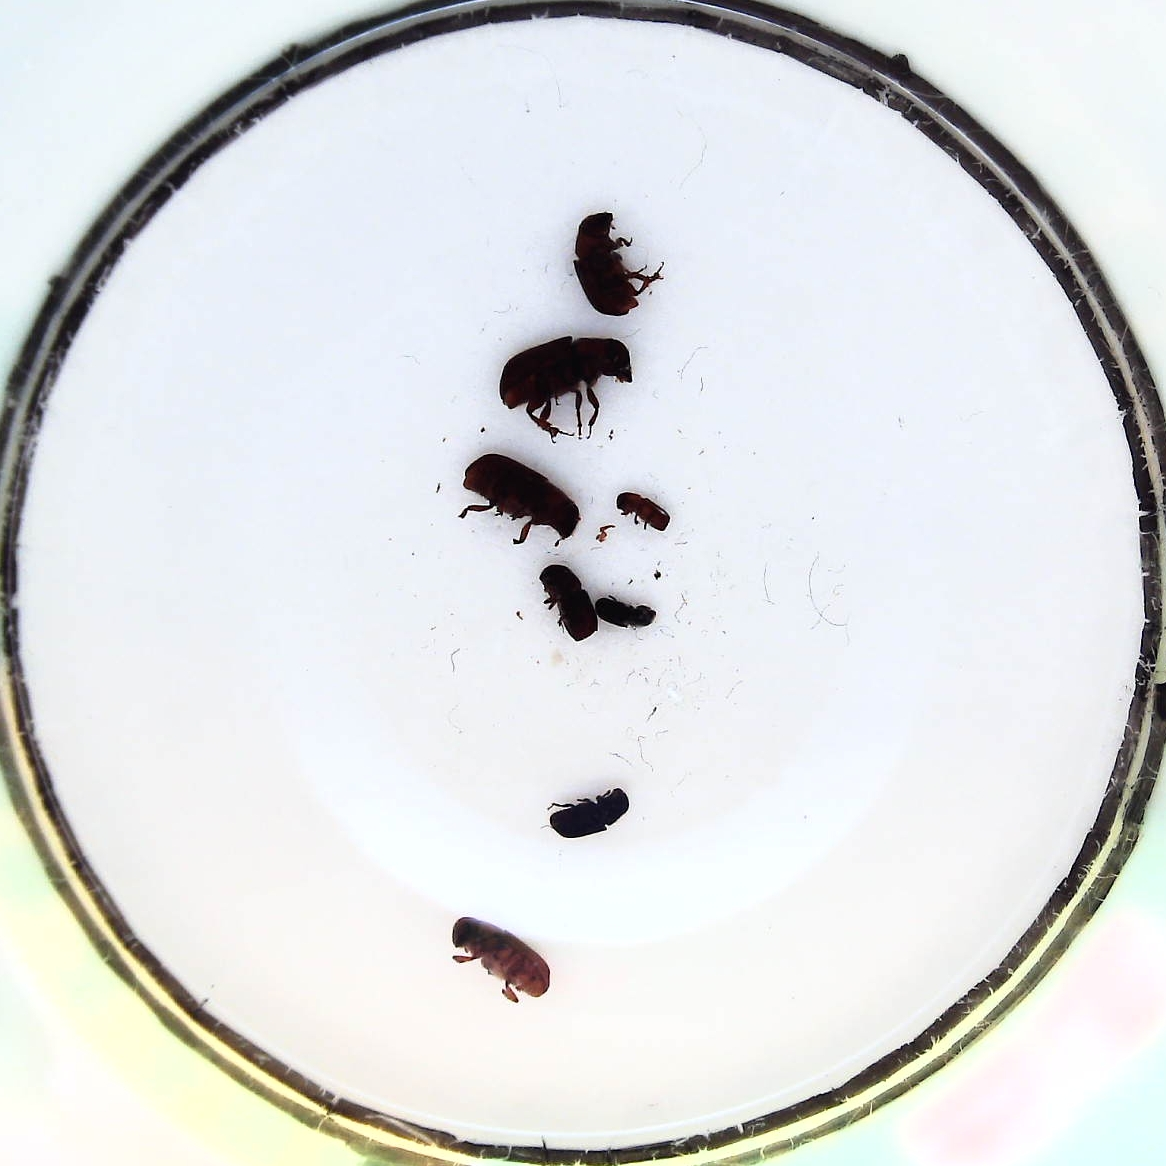Leconte: (497, 328, 633, 440), (464, 451, 584, 548), (446, 912, 555, 1000), (569, 207, 658, 315)
Linnaeus: (535, 560, 600, 642)
acuminatus: (613, 484, 674, 536)
armandi: (545, 785, 634, 839)
coleoptera: (593, 590, 660, 630)
